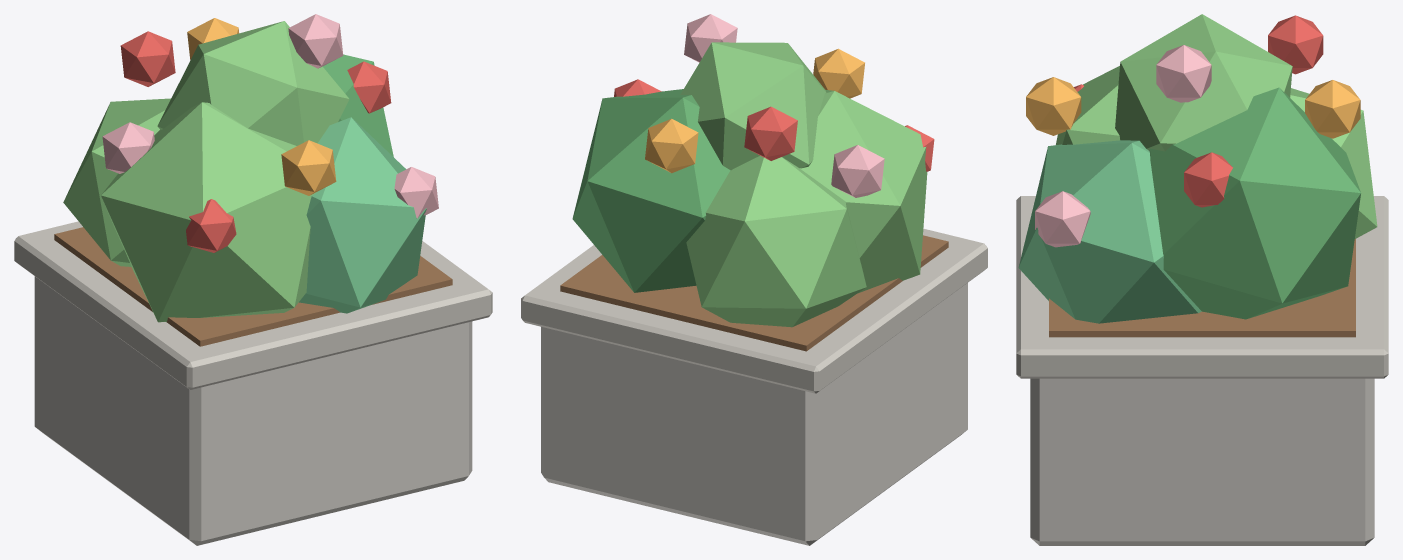
Rendered from prop_planter_01.glb.
3 renders of one model, left to right at view 1: azimuth 30°, elevation 25°; view 2: azimuth 150°, elevation 25°; view 3: azimuth 270°, elevation 25°, orthographic. The views are drawn at different scales.
Parts seen in each view (by area): view 1: prop_planter_01_body; view 2: prop_planter_01_body; view 3: prop_planter_01_body.
Boxes of the visible parts, x1=… form: prop_planter_01_body: x1=14, y1=14, x2=492, y2=545; prop_planter_01_body: x1=521, y1=14, x2=987, y2=545; prop_planter_01_body: x1=1016, y1=14, x2=1388, y2=545.
Bounding box in the file's own units: 0.8 × 1.09 × 0.8.
